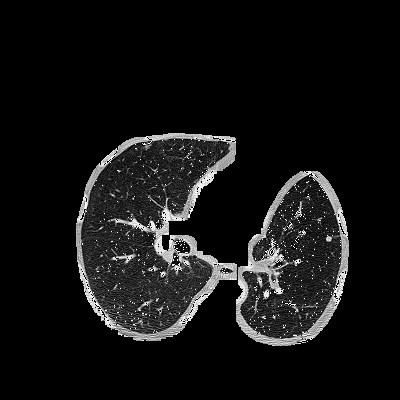PN: (325, 235, 331, 241)
